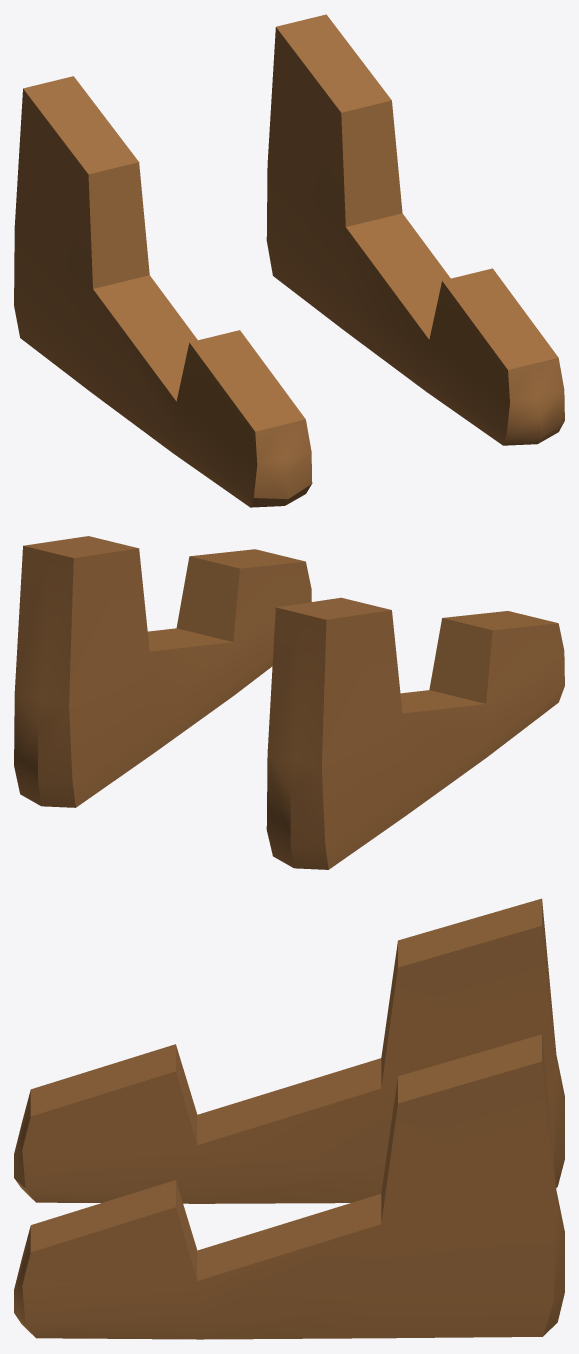
The model's file is handle1.fbx.
3 renders of one model, top to bottom at view 1: azimuth 30°, elevation 25°; view 2: azimuth 150°, elevation 25°; view 3: azimuth 270°, elevation 25°, orthographic. The views are drawn at different scales.
Parts seen in each view (by area): view 1: Plane.005; view 2: Plane.005; view 3: Plane.005.
Part boxes in pixels (x1,y1,x2,y2): Plane.005: (14, 14, 564, 507); Plane.005: (14, 536, 564, 869); Plane.005: (14, 898, 564, 1339).
Size of the model in its own units: 291 by 221 by 400.
